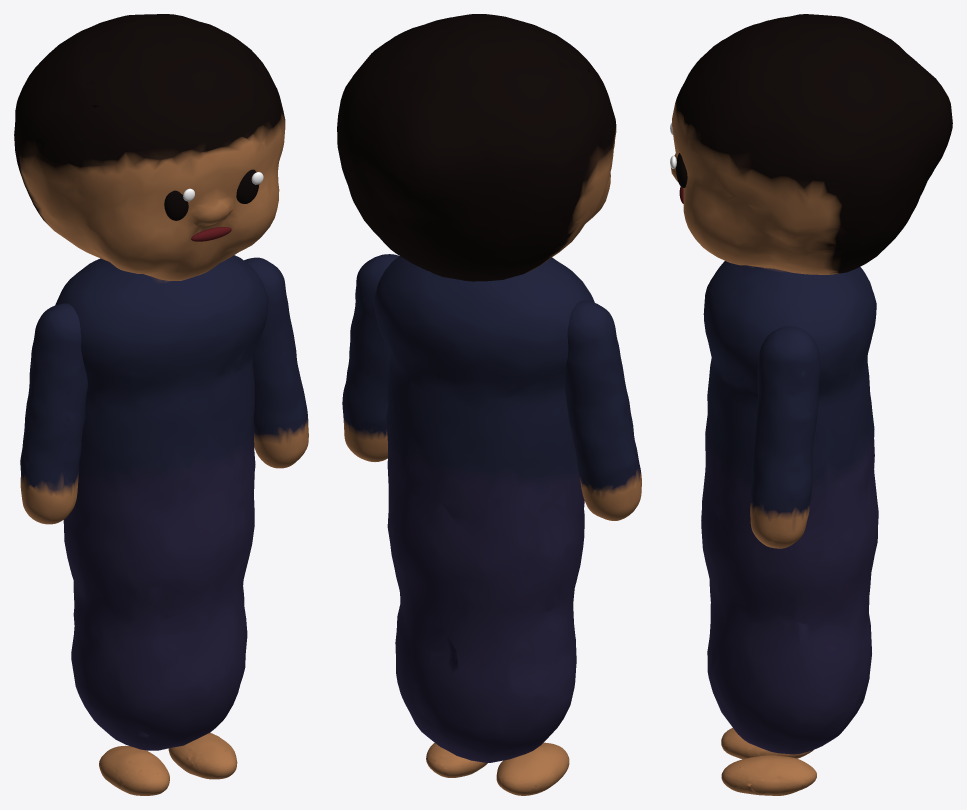
File: ambu.glb
3 renders of one model, left to right at view 1: azimuth 30°, elevation 25°; view 2: azimuth 150°, elevation 25°; view 3: azimuth 270°, elevation 25°, orthographic. The views are drawn at different scales.
Visible parts, largest first — view 1: Body, Head, ArmL, ArmR, LegL, LegR, eye; view 2: Body, Head, ArmL, ArmR, LegL, LegR; view 3: Body, Head, ArmR, LegR, LegL.
Boxes of the visible parts, bbox=[...] form: Body: bbox=[55, 255, 268, 750]; Head: bbox=[14, 14, 285, 280]; ArmL: bbox=[20, 303, 87, 524]; ArmR: bbox=[244, 257, 308, 468]; LegL: bbox=[99, 745, 169, 795]; LegR: bbox=[168, 732, 237, 779]; eye: bbox=[164, 190, 188, 220]; Body: bbox=[374, 256, 594, 762]; Head: bbox=[337, 14, 616, 281]; ArmL: bbox=[564, 300, 641, 520]; ArmR: bbox=[342, 254, 399, 461]; LegL: bbox=[496, 742, 569, 795]; LegR: bbox=[426, 742, 487, 777]; Body: bbox=[701, 261, 878, 754]; Head: bbox=[671, 14, 952, 274]; ArmR: bbox=[750, 326, 820, 548]; LegR: bbox=[721, 755, 816, 795]; LegL: bbox=[721, 728, 813, 759].
Size of the model in its own units: 0.821 by 2.06 by 0.7087.
